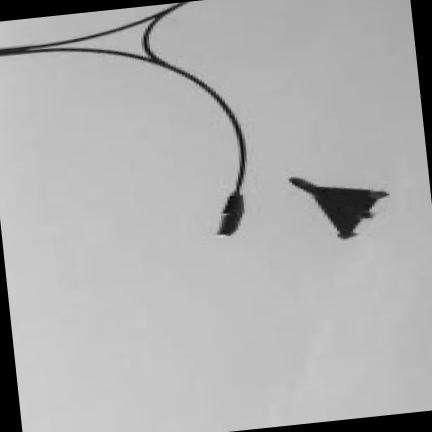Shahed: (288, 177, 388, 238)
